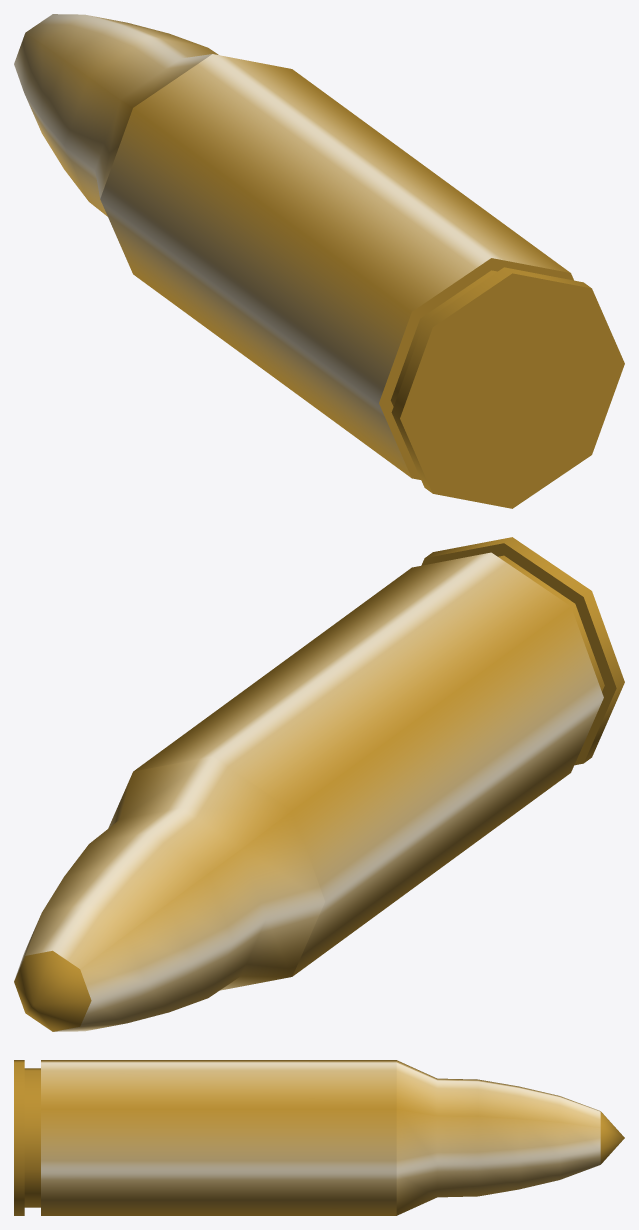
The model's file is Bullet.FBX.
3 views of the same model, one above another, from view 1: azimuth 30°, elevation 25°; view 2: azimuth 150°, elevation 25°; view 3: azimuth 270°, elevation 25° (orthographic). The views are drawn at different scales.
Visible parts, largest first — view 1: Cylinder102; view 2: Cylinder102; view 3: Cylinder102.
Part boxes in pixels (bbox=[...]): Cylinder102: bbox=[14, 14, 624, 508]; Cylinder102: bbox=[14, 537, 624, 1031]; Cylinder102: bbox=[14, 1060, 624, 1215].
Size of the model in its own units: 6.99 by 6.99 by 25.76.
1 material, 1 textured.
